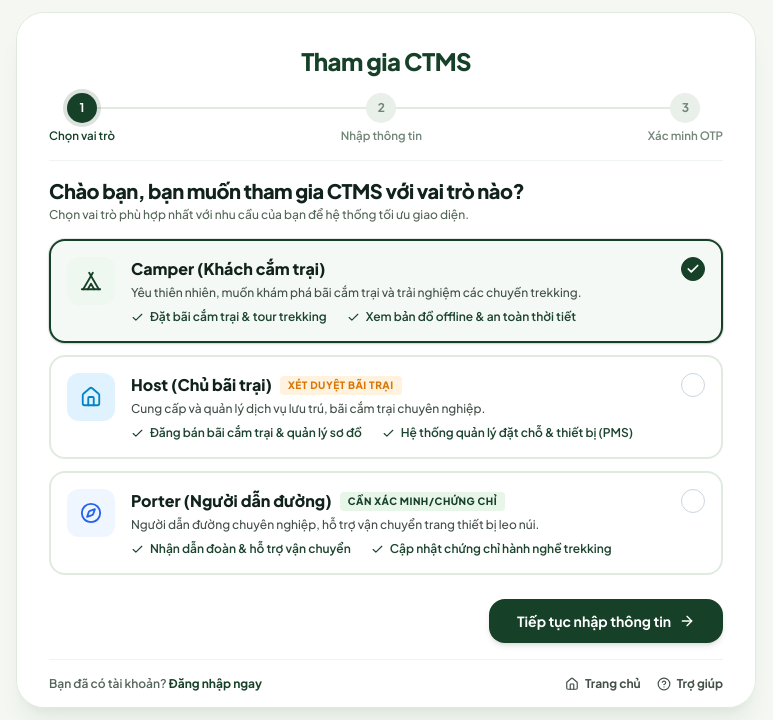
Test: RegisterPage › renders email and phone fields on the role-specific form step
Click the button "Tiếp tục nhập thông tin": {"x": 606, "y": 621} [489,599,723,643]
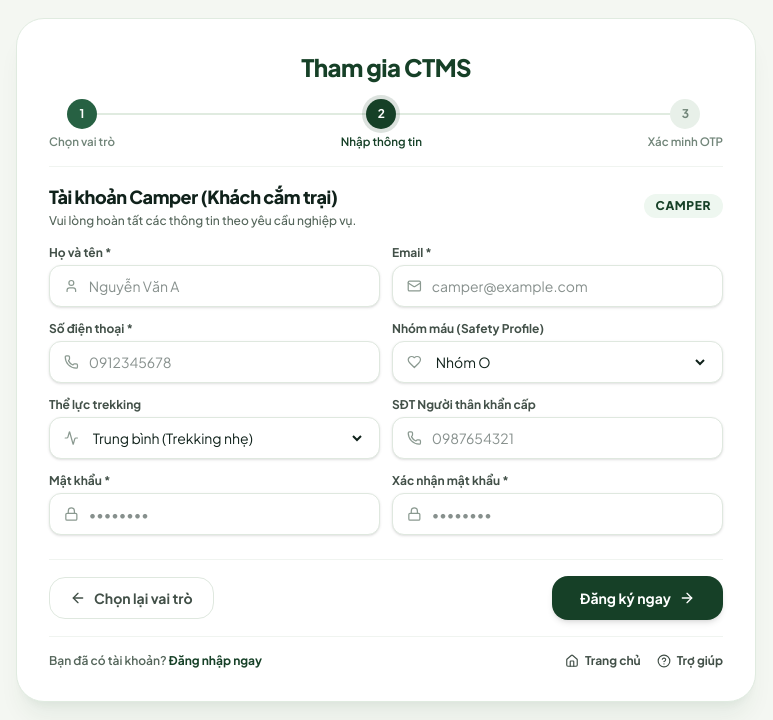
Check: the field with placeholder "camper@example.com" is shown, box [432,276,708,296]
Check: the field with placeholder "0912345678" is shown, box [89,352,365,372]
